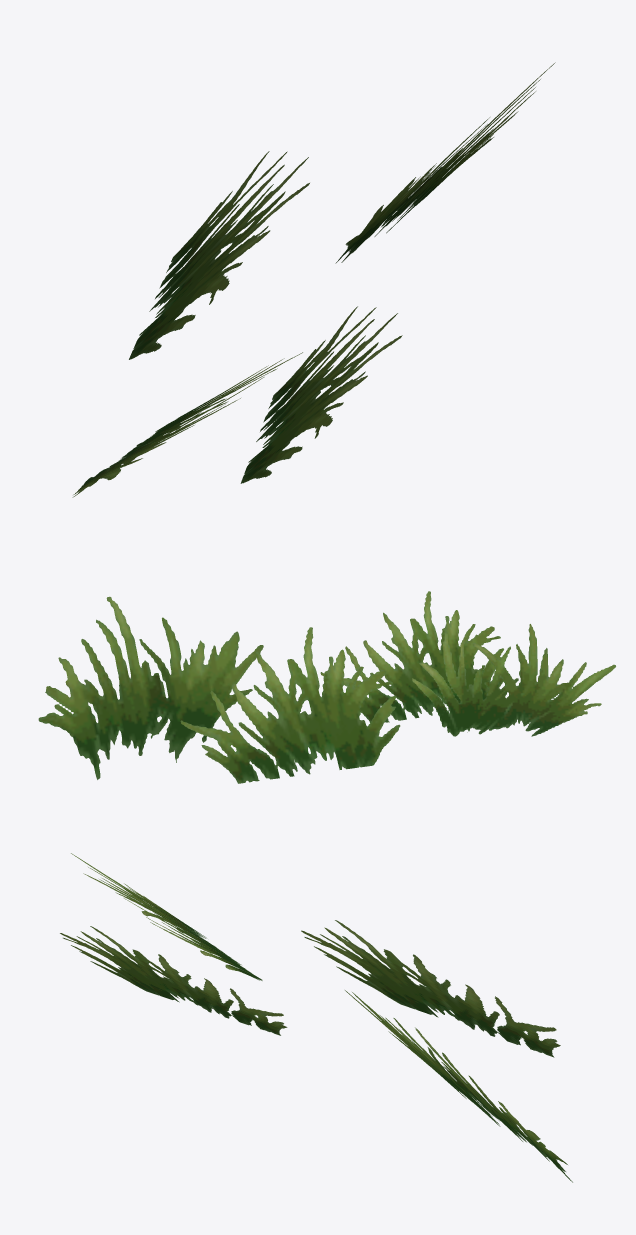
3 renders of one model, top to bottom at view 1: azimuth 30°, elevation 25°; view 2: azimuth 150°, elevation 25°; view 3: azimuth 270°, elevation 25°, orthographic. The views are drawn at different scales.
Visible parts, largest first — view 1: Mesh_polySurface69Shape1; view 2: Mesh_polySurface69Shape1; view 3: Mesh_polySurface69Shape1.
Part boxes in pixels (left/top/right/bottom): Mesh_polySurface69Shape1: left=72, top=62, right=555, bottom=497; Mesh_polySurface69Shape1: left=38, top=591, right=615, bottom=783; Mesh_polySurface69Shape1: left=60, top=853, right=572, bottom=1182.
Size of the model in its own units: 8.54 by 2.82 by 6.55.
